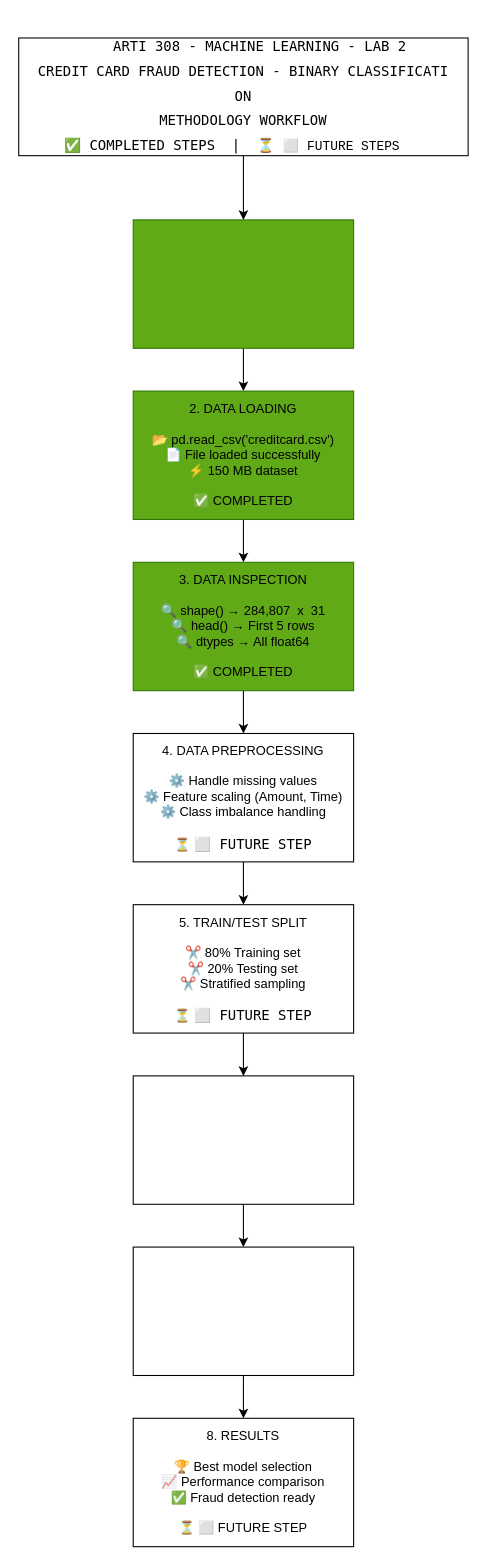
Some shapes in this 487 by 1565 pixel diagram are drawn without their labels. The shapes that lost their labels are listed below. From the top down, each one's centre as x and y in pixels, then its label:
At [243,283]: "1. DATASET SELECTION 📁 Credit Card Fraud Dataset 📌 Kaggle - ULB ✅ COMPLETED".
At [243,1139]: "6. MODEL TRAINING ⏳ ⬜ FUTURE STEP".
At [243,1310]: "7. MODEL EVALUATION 📊 Accuracy 📊 Precision 📊 Recall ⏳ FUTURE STEP".
